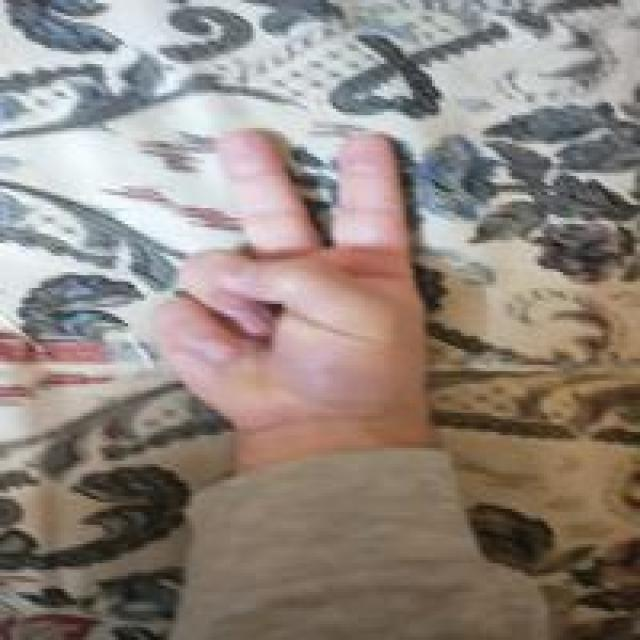V: (150, 123, 438, 427)
